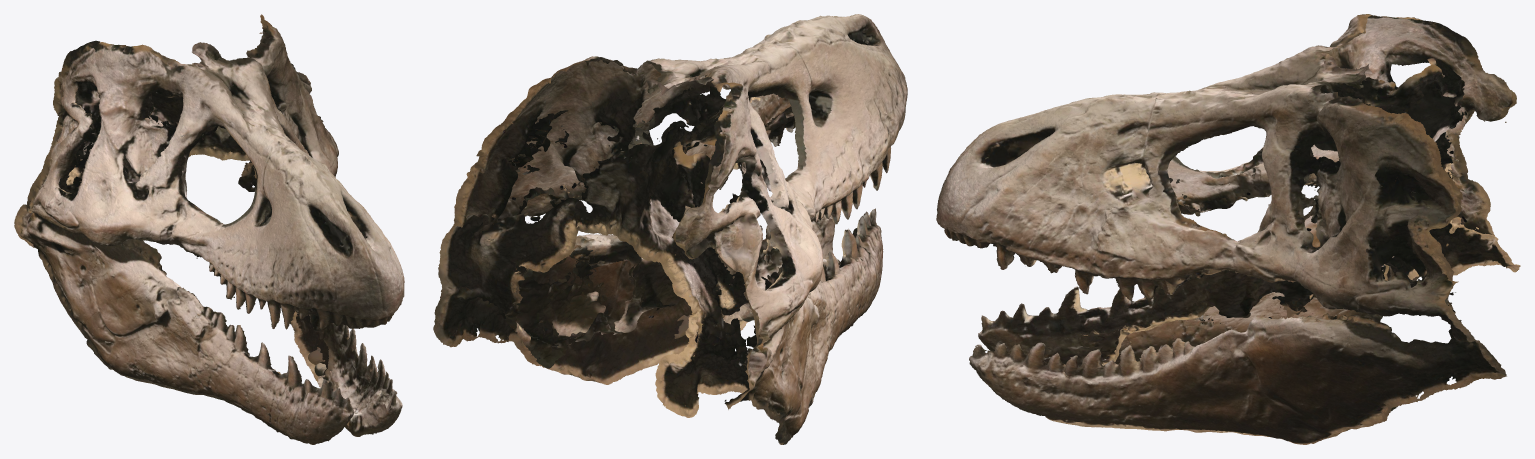
The model's file is trex-skull.glb.
The picture shows the model from 3 angles, left to right: view 1: azimuth 30°, elevation 25°; view 2: azimuth 150°, elevation 25°; view 3: azimuth 270°, elevation 25°; orthographic projection. The views are drawn at different scales.
Parts seen in each view (by area): view 1: Object_2; view 2: Object_2; view 3: Object_2.
Boxes of the visible parts, left/top/right/bottom form: Object_2: left=14, top=14, right=404, bottom=444; Object_2: left=433, top=14, right=907, bottom=444; Object_2: left=936, top=14, right=1520, bottom=444.
Bounding box in the file's own units: 2.37 × 2.52 × 3.73.
1 material, 1 textured.
